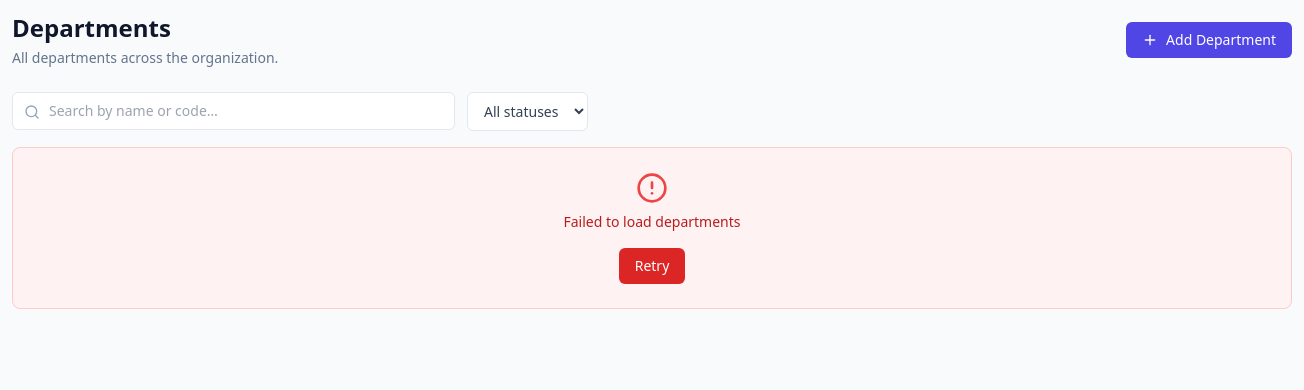
DepartmentsPage - CRUD Workflows › Loading, Empty, and Error / Retry States › displays error state when fetching departments fails and retries upon clicking Retry
The width and height of the screenshot is (1304, 390).
Expected: the text "Failed to load departments" is shown, [564, 212, 740, 231]
What coordinates should you click on to do the following:
click the button "Retry"
I would click on:
 (652, 266)
Its box is [619, 248, 685, 284].
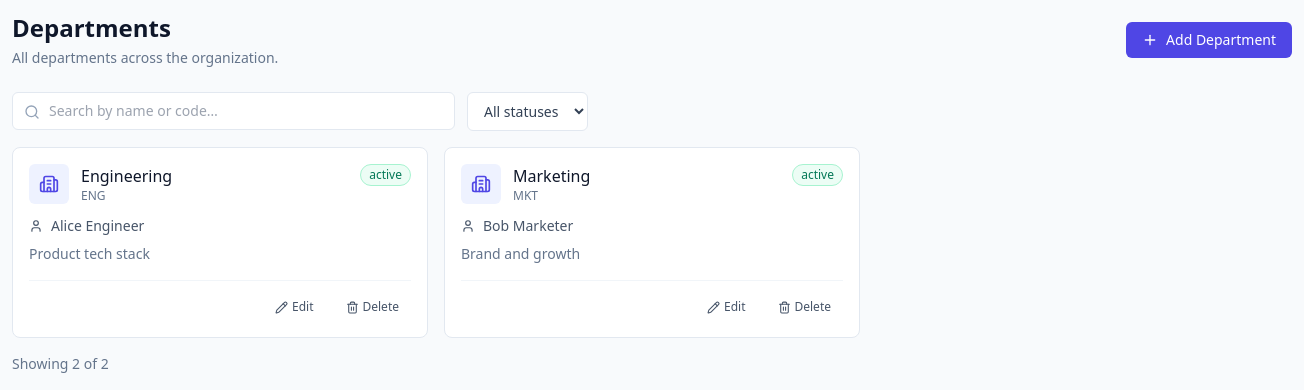
Result: the text "Engineering" is shown at [81, 164, 172, 188]
